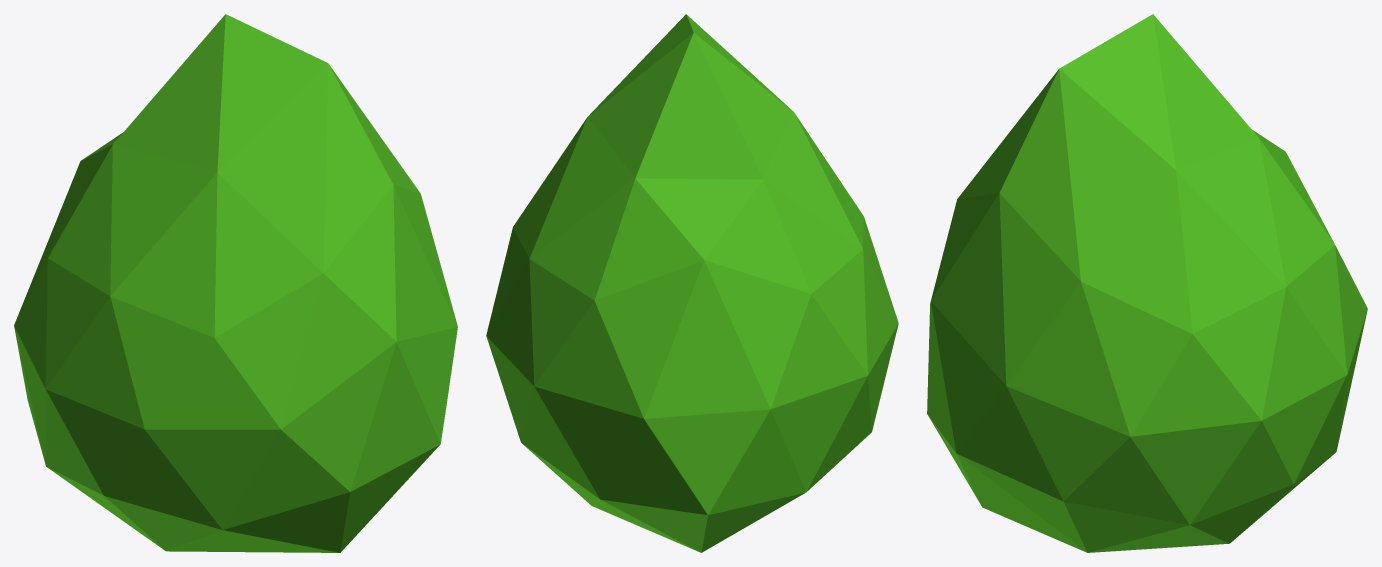
File: Bush.fbx
3 views of the same model, side by side, from view 1: azimuth 30°, elevation 25°; view 2: azimuth 150°, elevation 25°; view 3: azimuth 270°, elevation 25° (orthographic). The views are drawn at different scales.
Parts seen in each view (by area): view 1: Bush.002; view 2: Bush.002; view 3: Bush.002.
Part boxes in pixels (x1=…): Bush.002: x1=14, y1=14, x2=457, y2=552; Bush.002: x1=486, y1=14, x2=898, y2=552; Bush.002: x1=927, y1=14, x2=1367, y2=552.
Bounding box in the file's own units: 96.27 × 124 × 96.03.
